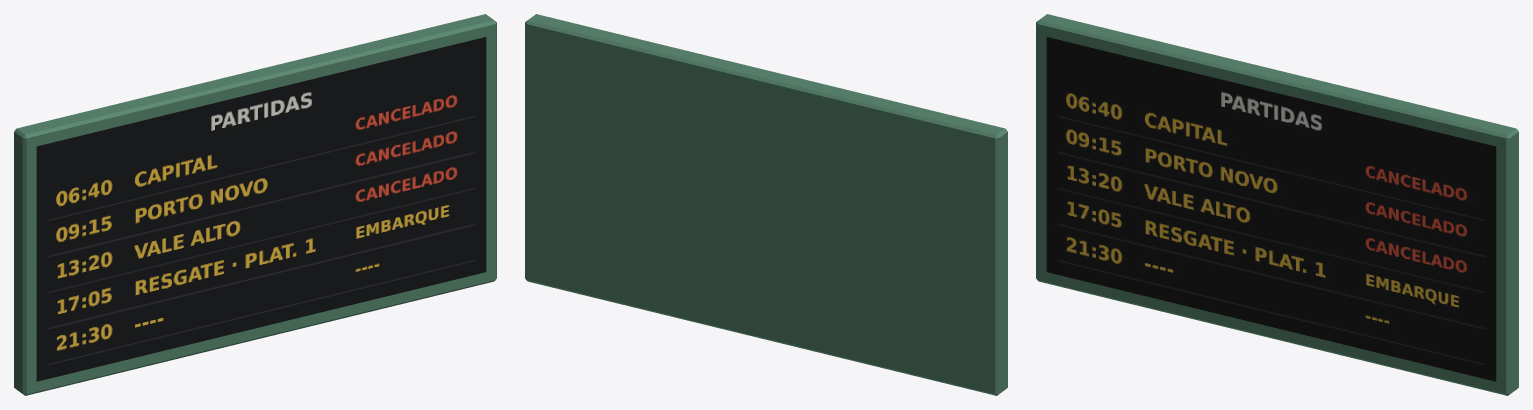
Rendered from quadro_horarios.glb.
3 renders of one model, left to right at view 1: azimuth 30°, elevation 25°; view 2: azimuth 150°, elevation 25°; view 3: azimuth 330°, elevation 25°, orthographic.
Parts seen in each view (by area): view 1: quadro_horarios_horarios_img, quadro_horarios_verde_estacao; view 2: quadro_horarios_verde_estacao; view 3: quadro_horarios_horarios_img, quadro_horarios_verde_estacao.
Boxes of the visible parts, x1,y1,x2,y2 form: quadro_horarios_horarios_img: (36, 37, 486, 381); quadro_horarios_verde_estacao: (14, 14, 496, 395); quadro_horarios_verde_estacao: (525, 14, 1007, 395); quadro_horarios_horarios_img: (1046, 37, 1496, 381); quadro_horarios_verde_estacao: (1036, 14, 1518, 395).
Size of the model in its own units: 1.9 by 1 by 0.082.
2 materials, 1 textured.
